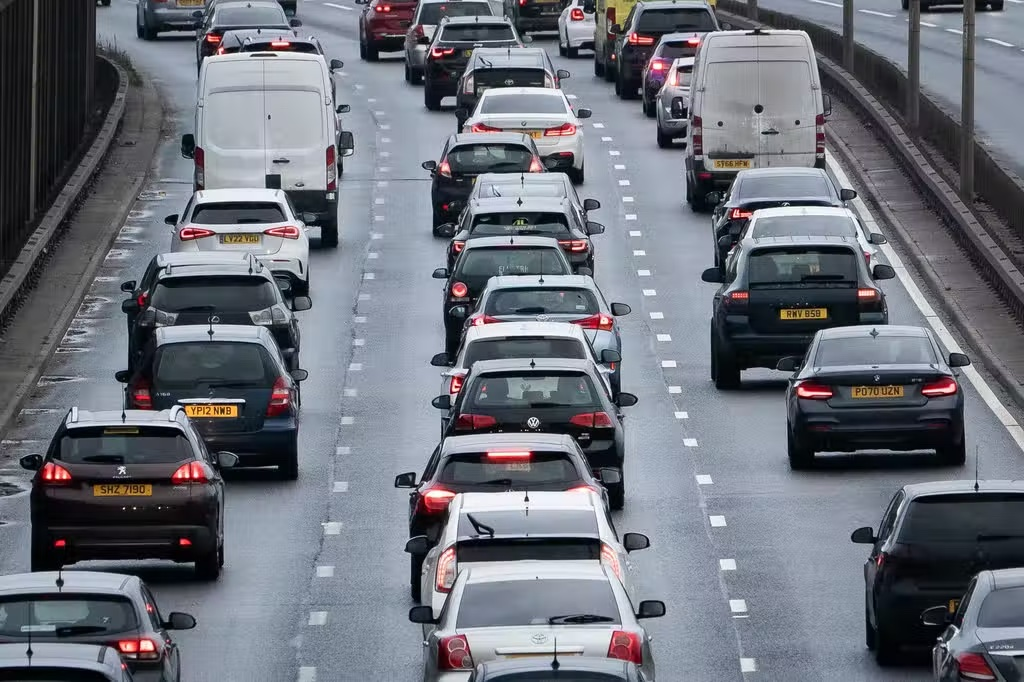Car: (18, 405, 242, 581), (403, 490, 651, 644), (394, 435, 621, 600), (182, 52, 355, 246), (851, 477, 1024, 668), (431, 357, 639, 509), (407, 562, 668, 682), (114, 324, 309, 479), (699, 236, 895, 389), (670, 28, 832, 212), (777, 323, 969, 469), (430, 321, 624, 440), (448, 274, 631, 397), (0, 571, 197, 682), (120, 262, 316, 371), (432, 236, 593, 352), (163, 188, 319, 296), (703, 167, 858, 266), (120, 252, 292, 336), (434, 196, 605, 277), (455, 88, 592, 185), (421, 132, 548, 236), (609, 0, 733, 98), (921, 565, 1024, 682), (716, 205, 890, 271), (416, 15, 534, 109), (583, 0, 716, 80), (450, 47, 571, 133), (448, 173, 602, 226), (193, 1, 303, 74), (404, 0, 495, 84), (237, 35, 345, 105), (636, 31, 706, 117), (0, 641, 136, 682), (467, 655, 651, 682), (192, 0, 277, 58), (650, 56, 695, 148), (355, 0, 418, 61), (136, 0, 212, 39), (503, 0, 563, 37), (558, 0, 597, 56), (212, 29, 295, 55), (331, 89, 350, 144)
